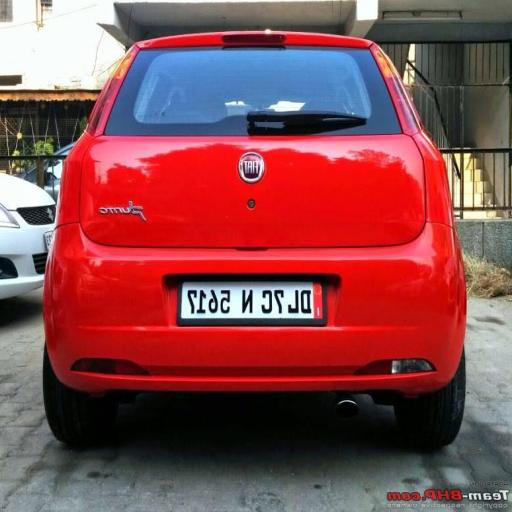License: (183, 280, 324, 317)
